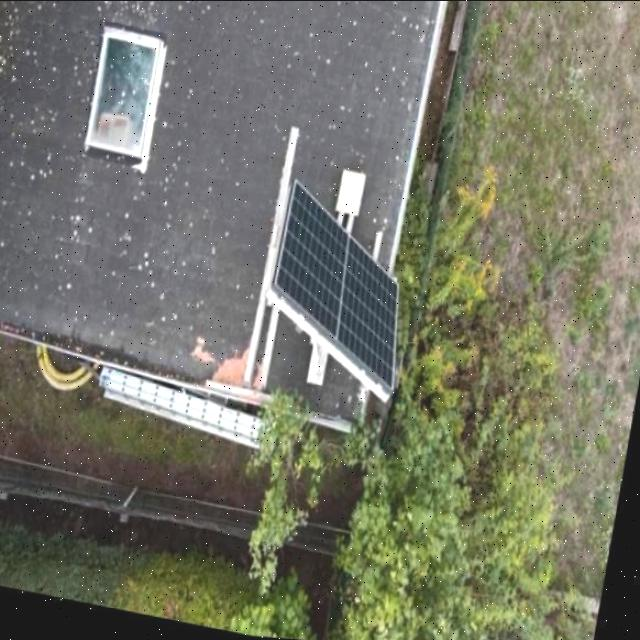Normal Solar Panel: (262, 182, 429, 402)
